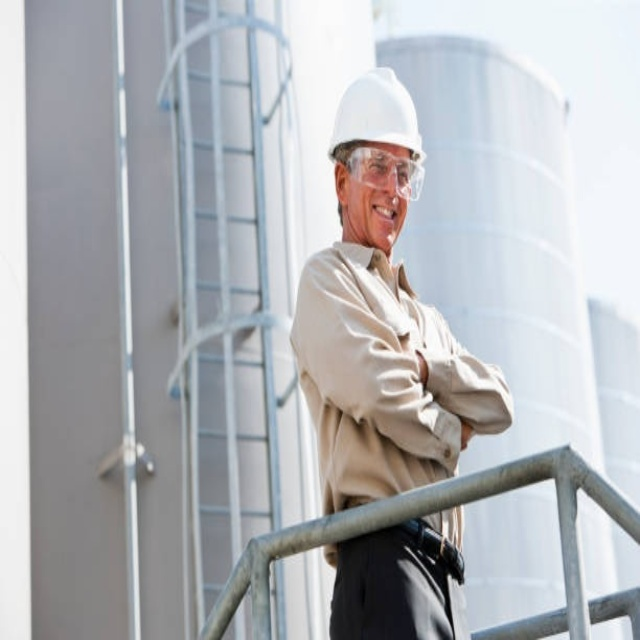Gafas: (343, 149, 424, 202)
Sin_mascara: (367, 201, 402, 243)
